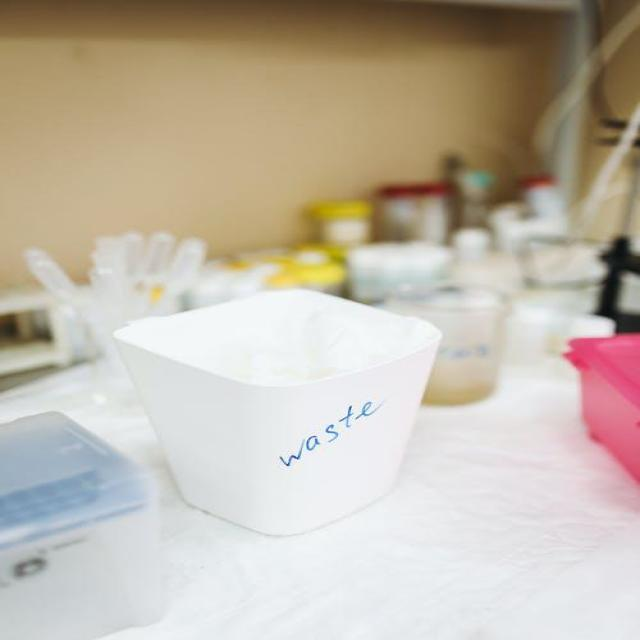plastic: (28, 230, 209, 315)
